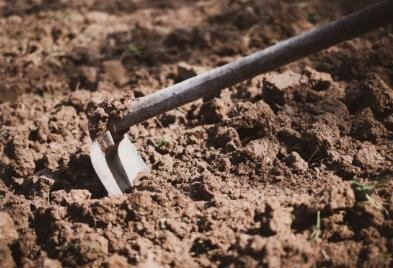HOUE: (84, 9, 393, 206)
